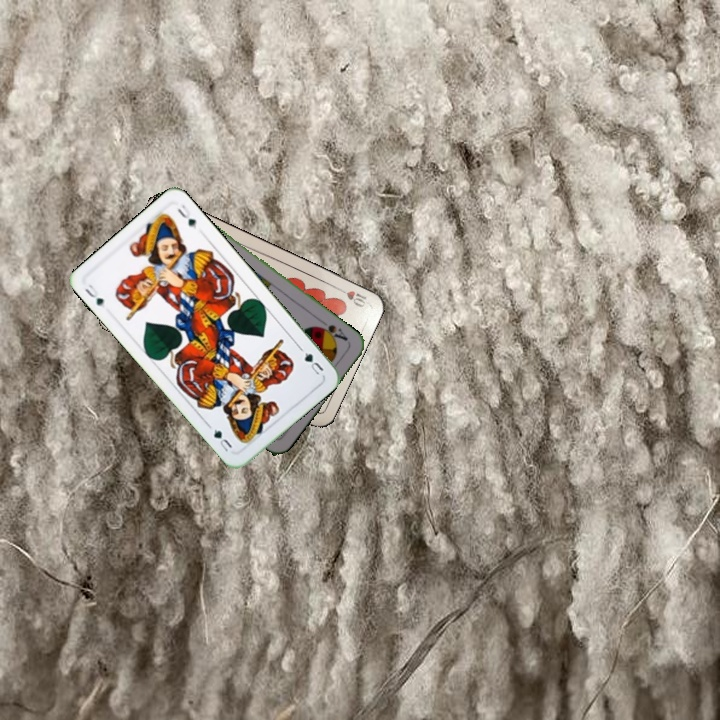GU: (300, 348, 326, 378), (80, 280, 106, 309)
H10: (332, 283, 371, 310)
SA: (314, 320, 351, 344)
